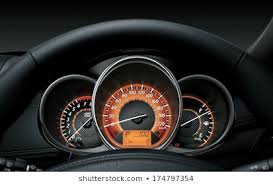Digital_Meter: (123, 130, 151, 143)
